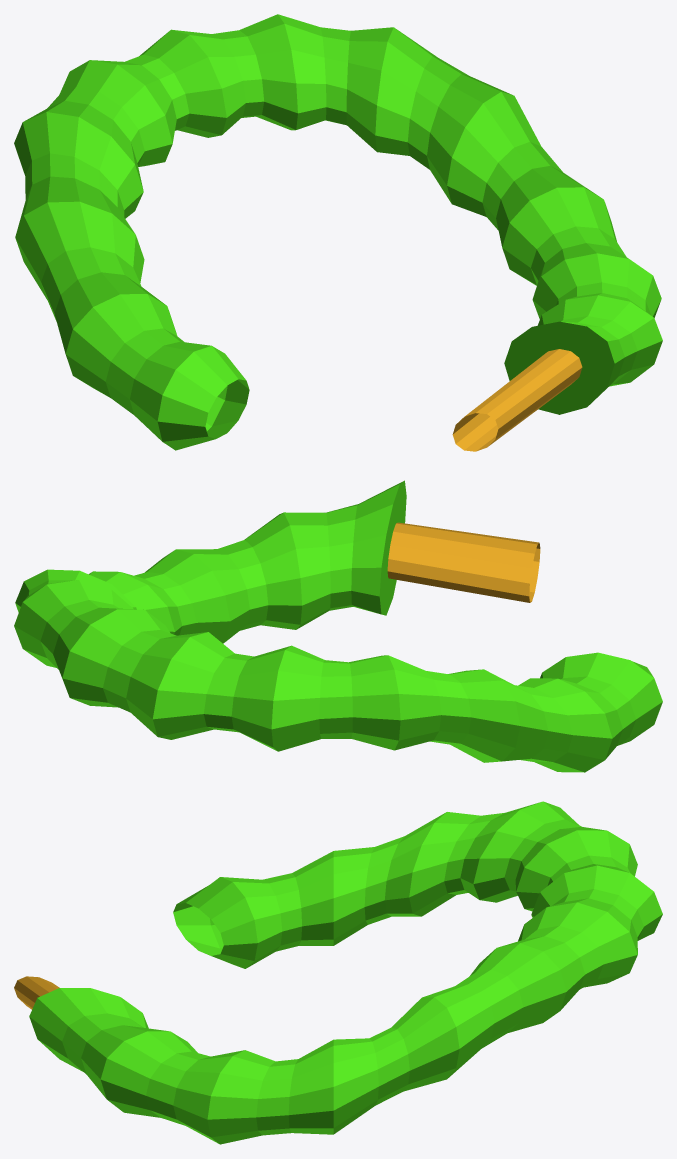
File: coiso2.fbx
3 renders of one model, top to bottom at view 1: azimuth 30°, elevation 25°; view 2: azimuth 150°, elevation 25°; view 3: azimuth 270°, elevation 25°, orthographic. The views are drawn at different scales.
Parts seen in each view (by area): view 1: Torus; view 2: Torus; view 3: Torus.
Boxes of the visible parts, x1,y1,x2,y2 form: Torus: [14, 14, 662, 451]; Torus: [14, 480, 662, 772]; Torus: [14, 801, 662, 1144].
Size of the model in its own units: 95.44 by 35.14 by 111.
